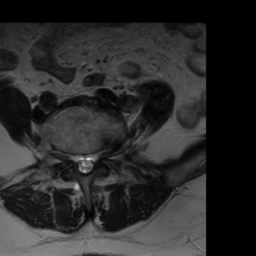CCS_normal: (80, 145, 88, 181)
LFS_normal: (96, 139, 105, 166)
LLS_normal: (88, 146, 96, 176)
RFS_stenosis: (64, 144, 72, 169)
RLS_normal: (72, 145, 80, 176)
